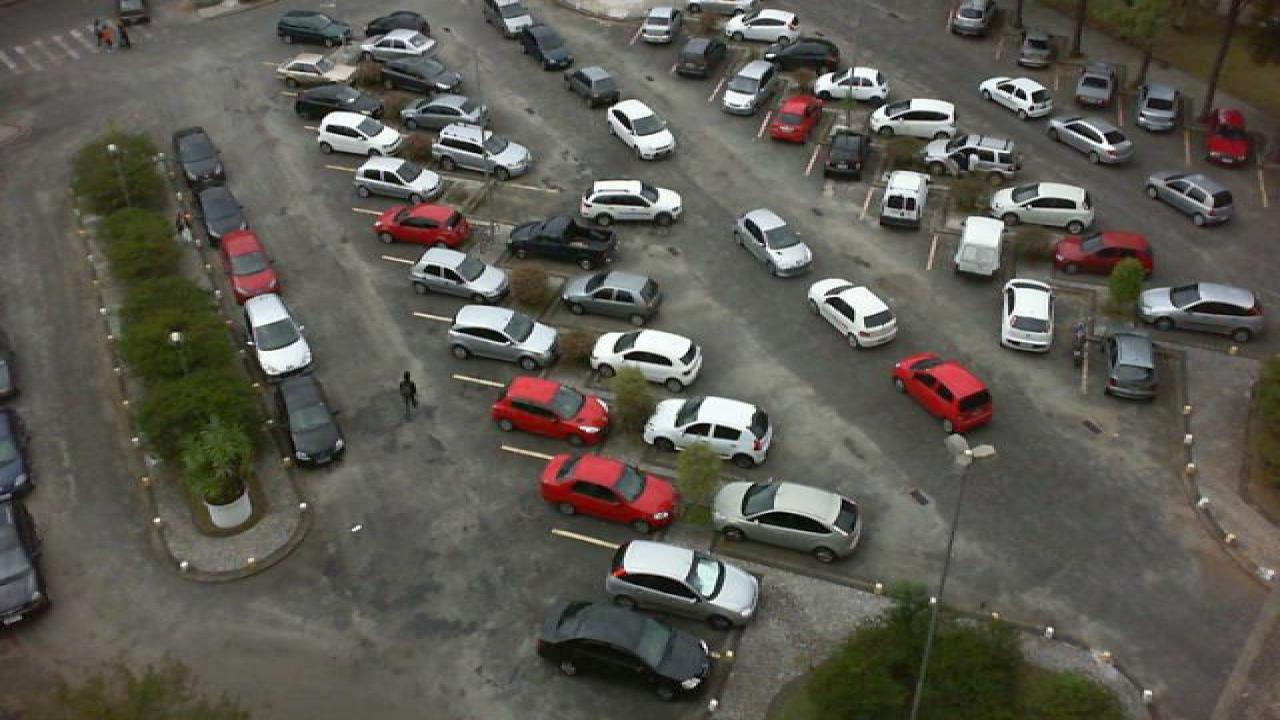Car: (530, 596, 712, 701), (604, 537, 762, 630), (708, 477, 864, 563), (536, 450, 682, 532), (638, 393, 774, 467), (490, 372, 614, 449), (888, 350, 996, 435), (444, 300, 564, 373), (1136, 280, 1266, 342), (590, 326, 708, 394), (502, 210, 622, 272), (804, 276, 900, 348), (406, 245, 512, 307), (278, 374, 346, 468), (240, 291, 314, 377), (426, 123, 534, 181), (732, 206, 816, 280), (988, 180, 1096, 235), (1140, 169, 1236, 227), (560, 268, 666, 320), (578, 177, 686, 227), (1048, 228, 1158, 277), (370, 201, 470, 251), (314, 110, 408, 163), (350, 154, 444, 206), (604, 97, 678, 163), (996, 277, 1058, 353), (922, 132, 1020, 178), (1044, 115, 1134, 165), (1102, 328, 1162, 400), (868, 96, 960, 140), (220, 228, 276, 300), (398, 93, 492, 135), (292, 80, 384, 122), (952, 214, 1008, 280), (976, 75, 1056, 118), (170, 124, 224, 186), (764, 90, 826, 144), (276, 51, 360, 90), (812, 64, 890, 106), (718, 56, 774, 114), (1200, 108, 1254, 168), (718, 6, 804, 42), (878, 170, 928, 231), (196, 181, 248, 239), (334, 50, 422, 84), (764, 34, 844, 71), (274, 9, 352, 46), (520, 19, 576, 70), (820, 125, 870, 182), (562, 64, 622, 109), (362, 28, 440, 61), (1136, 81, 1182, 132), (674, 33, 726, 78), (1074, 60, 1118, 110), (484, 0, 536, 38), (362, 10, 430, 35), (946, 0, 990, 37), (640, 5, 680, 45)
